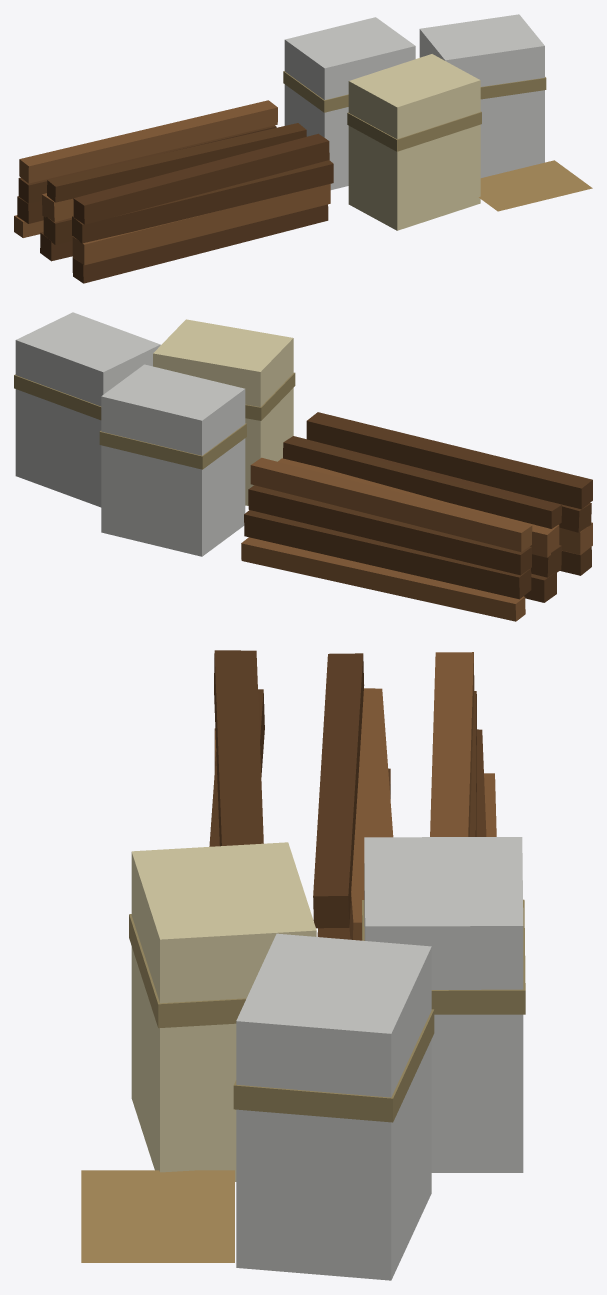
Rendered from prop_firewood-sacks.glb.
3 renders of one model, top to bottom at view 1: azimuth 30°, elevation 25°; view 2: azimuth 150°, elevation 25°; view 3: azimuth 270°, elevation 25°, orthographic. The views are drawn at different scales.
Parts seen in each view (by area): view 1: body; view 2: body; view 3: body.
Part boxes in pixels (x1,y1,x2,y2): body: (14,14,592,283); body: (14,312,592,621); body: (81,650,525,1280).
Bounding box in the file's own units: 2.53 × 0.6204 × 1.01.
